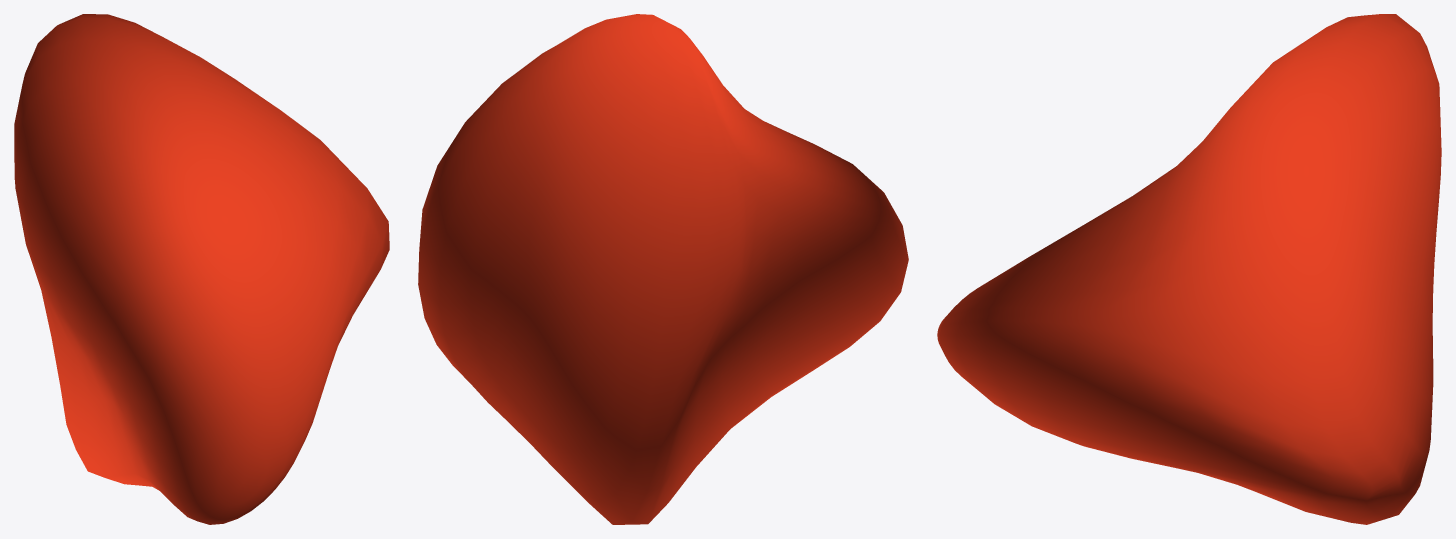
File: LavaCore.glb
3 views of the same model, side by side, from view 1: azimuth 30°, elevation 25°; view 2: azimuth 150°, elevation 25°; view 3: azimuth 270°, elevation 25° (orthographic). The views are drawn at different scales.
Parts seen in each view (by area): view 1: Core; view 2: Core; view 3: Core.
Part boxes in pixels (x1,y1,x2,y2): Core: [14, 14, 389, 524]; Core: [418, 14, 908, 524]; Core: [937, 14, 1441, 524].
Size of the model in its own units: 0.3199 by 0.4325 by 0.3956.
